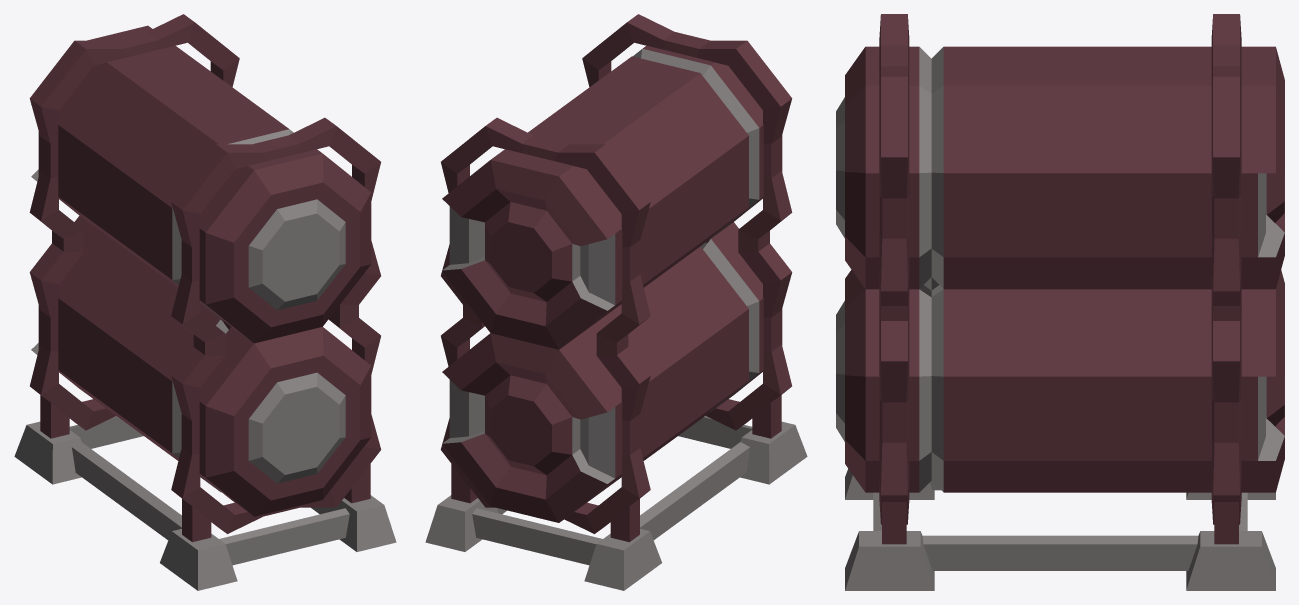
The model's file is scifi-vials-two-pack.fbx.
3 views of the same model, side by side, from view 1: azimuth 30°, elevation 25°; view 2: azimuth 150°, elevation 25°; view 3: azimuth 270°, elevation 25° (orthographic). The views are drawn at different scales.
Visible parts, largest first — view 1: scifi-vials-two-pack; view 2: scifi-vials-two-pack; view 3: scifi-vials-two-pack.
Boxes of the visible parts, x1,y1,x2,y2 form: scifi-vials-two-pack: (14, 14, 396, 590); scifi-vials-two-pack: (425, 14, 807, 590); scifi-vials-two-pack: (836, 14, 1284, 590).
Size of the model in its own units: 0.6 by 1.2 by 1.
